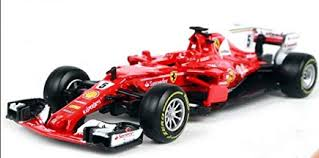FormulaOneCar: (4, 20, 319, 154)
